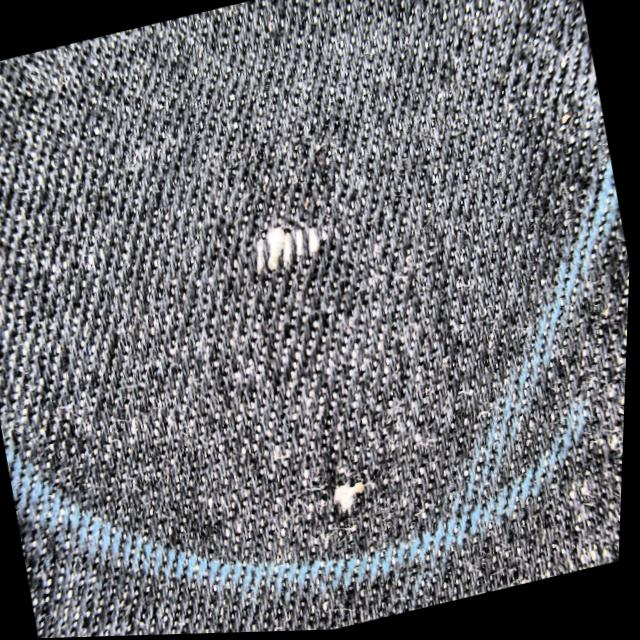Hole: (226, 193, 363, 290), (297, 443, 389, 541)
